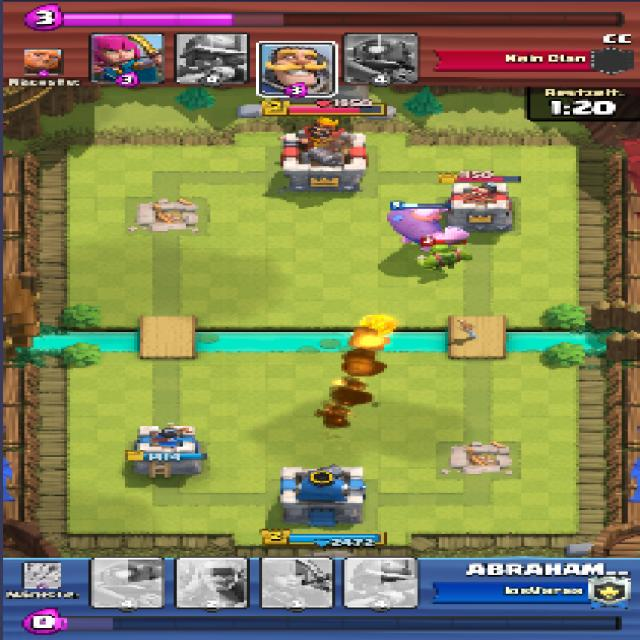Player-Fireball: (349, 310, 398, 350)
Player-Giant: (380, 204, 469, 245)
Player-GoblinCage: (411, 243, 473, 271)
